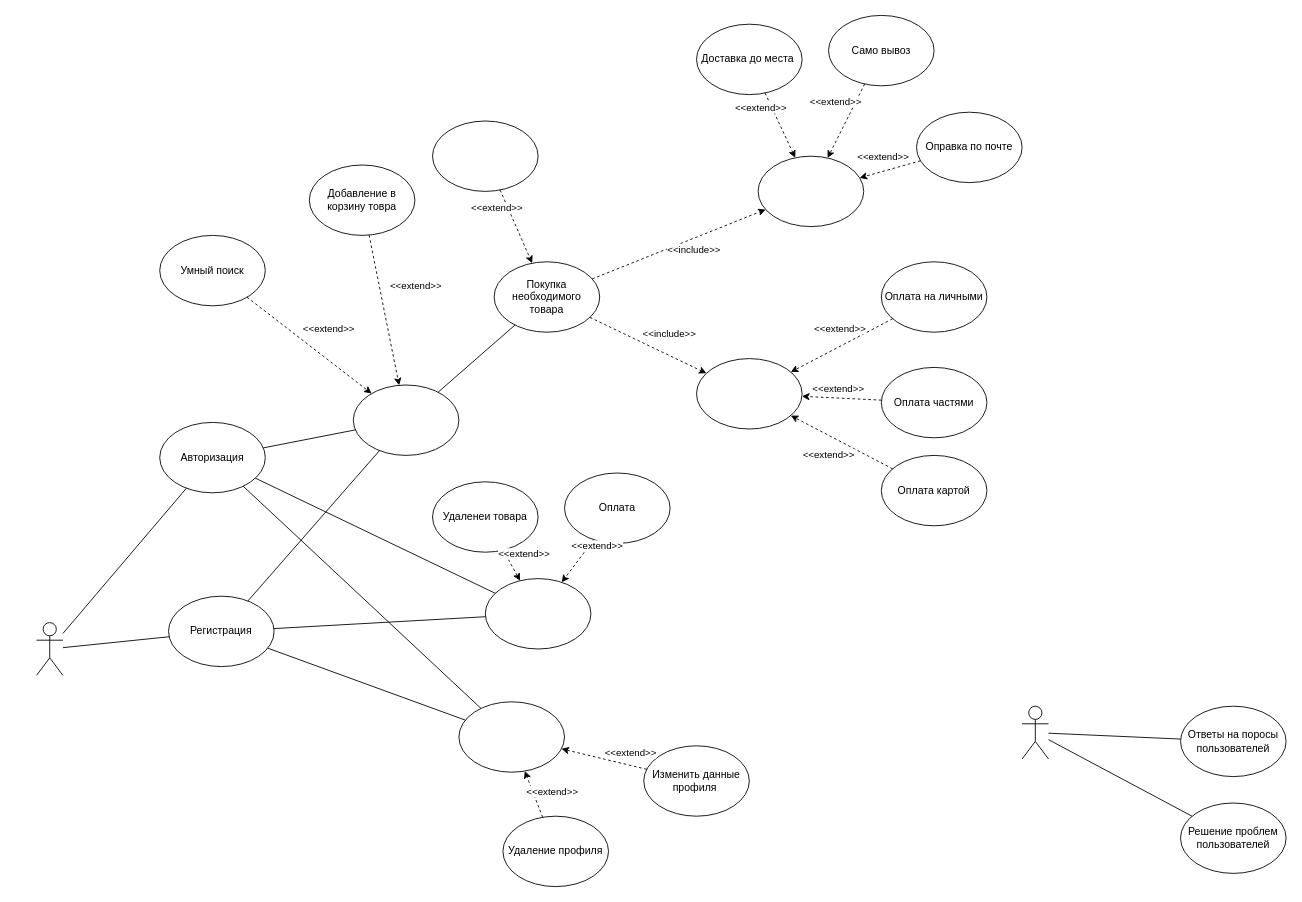
Image size: 1302x902. Some labels were removed from this diagram. The box of each missing label's shape, as (x1, y1, x2, y2) in pixels:
Выбор места доставки товара: (757, 155, 864, 227)
Выбор товара: (352, 384, 459, 455)
Оплата товара: (696, 358, 802, 429)
Оставление коментария о товаре/продавце: (432, 120, 538, 191)
Пользователь: (36, 622, 63, 675)
Посмотреть профиль: (458, 701, 565, 772)
Просмотр корзины: (484, 578, 591, 649)
Тех поддержка: (1021, 705, 1049, 759)
